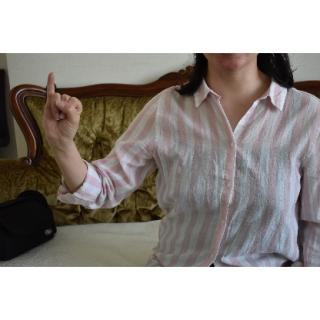MEEM: (36, 70, 86, 159)
